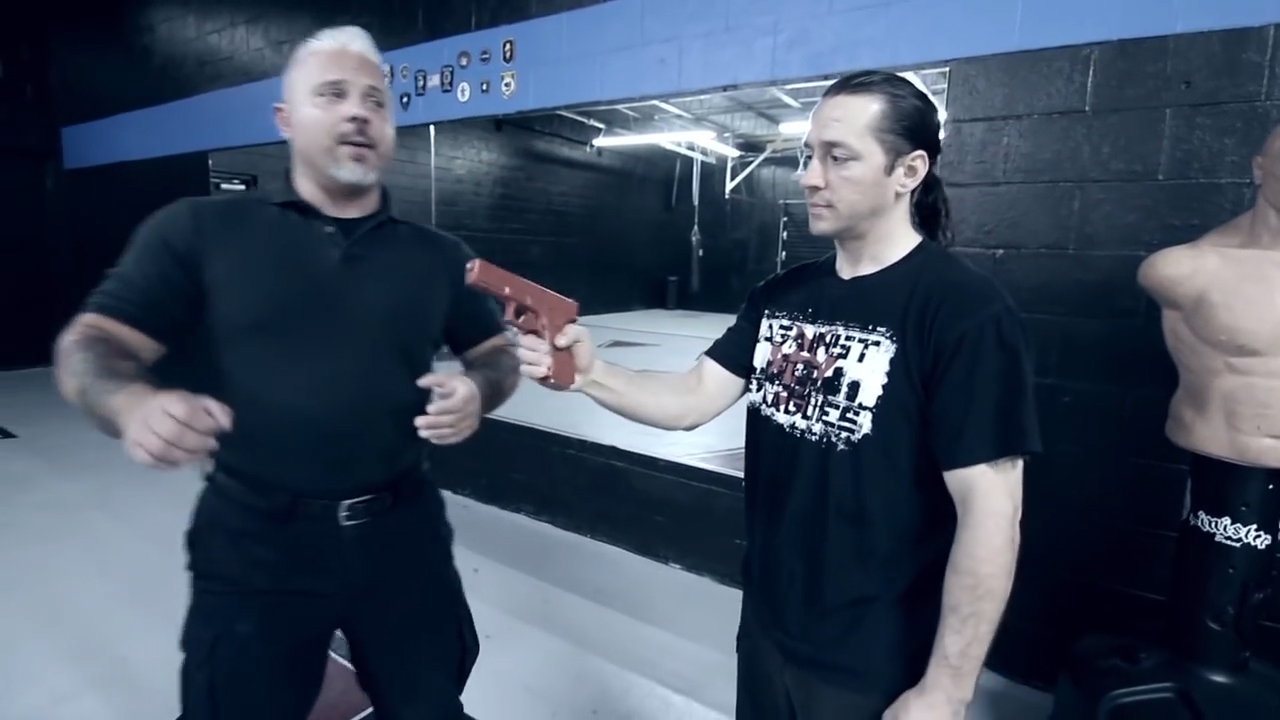pistol: (461, 255, 581, 393)
